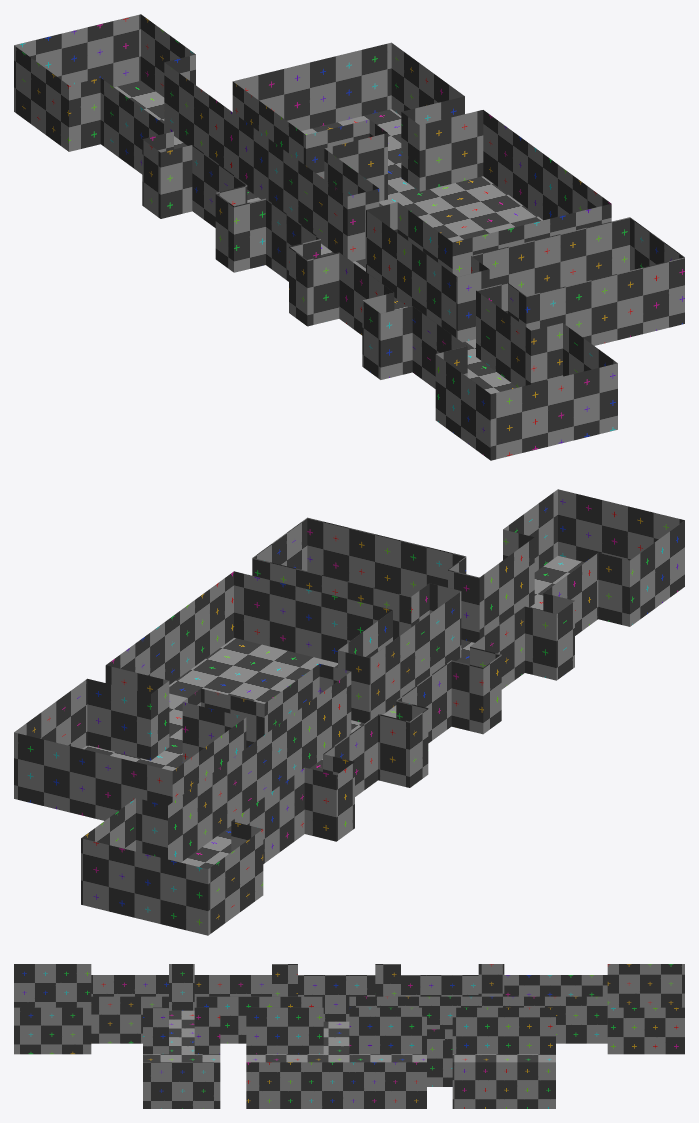
The model's file is testlevel.glb.
3 views of the same model, one above another, from view 1: azimuth 30°, elevation 25°; view 2: azimuth 150°, elevation 25°; view 3: azimuth 270°, elevation 25° (orthographic). The views are drawn at different scales.
Visible parts, largest first — view 1: TestLevel-col; view 2: TestLevel-col; view 3: TestLevel-col.
Part boxes in pixels (left/top/right/bottom): TestLevel-col: left=14, top=14, right=684, bottom=460; TestLevel-col: left=14, top=489, right=684, bottom=935; TestLevel-col: left=14, top=964, right=684, bottom=1108.
Bounding box in the file's own units: 9 × 2 × 26.
Materials: 1 (1 with a texture image).
